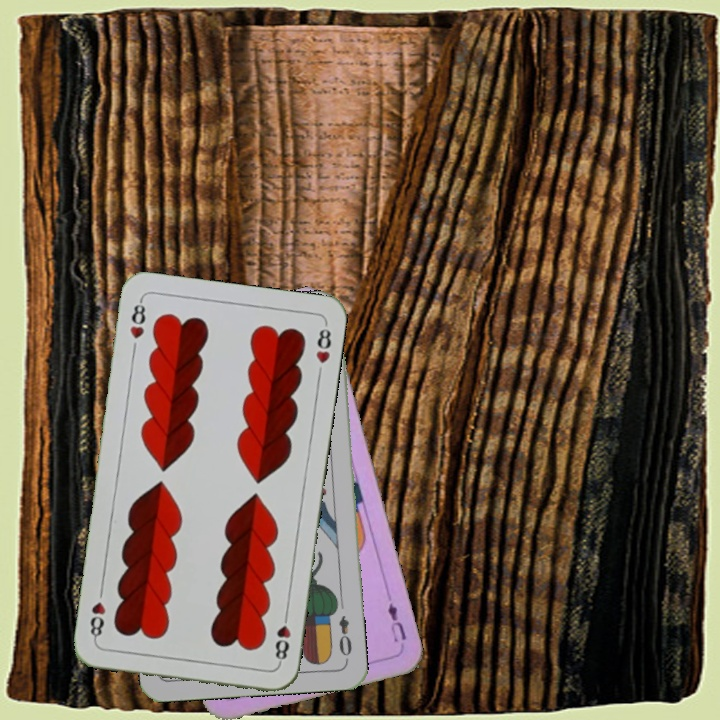EO: (334, 612, 355, 664)
EU: (383, 598, 409, 645)
H8: (271, 608, 293, 667), (126, 295, 148, 342)
